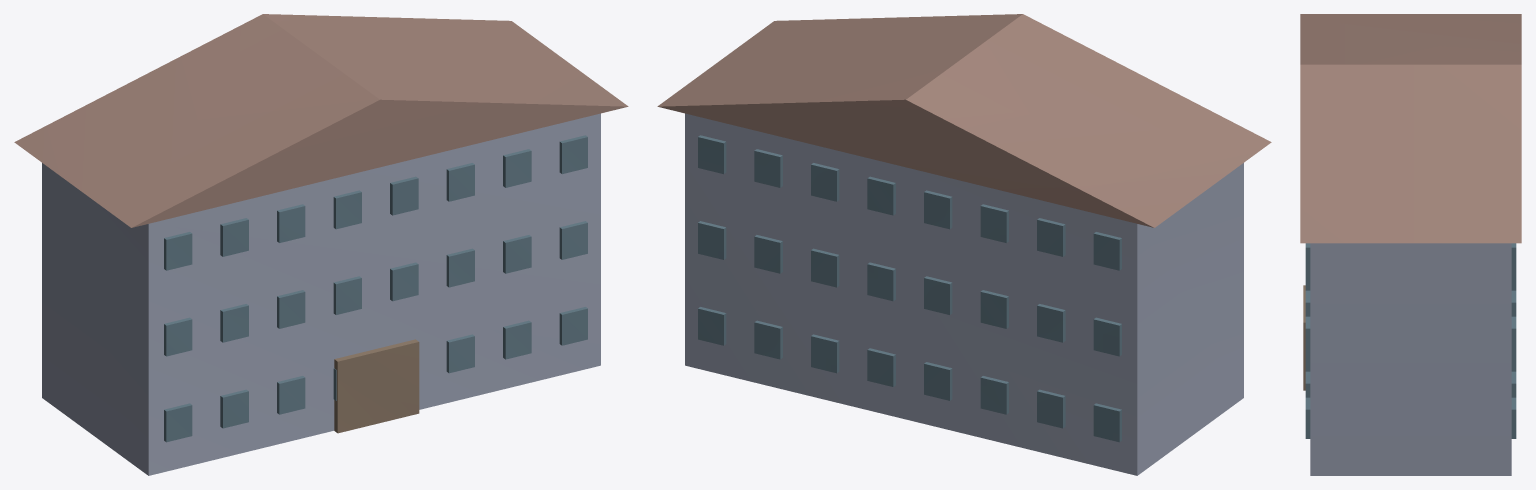
File: station-04.glb
3 views of the same model, side by side, from view 1: azimuth 30°, elevation 25°; view 2: azimuth 150°, elevation 25°; view 3: azimuth 270°, elevation 25° (orthographic). The views are drawn at different scales.
Visible parts, largest first — view 1: world; view 2: world; view 3: world.
Boxes of the visible parts, bbox=[...] form: world: bbox=[14, 14, 628, 475]; world: bbox=[657, 14, 1271, 475]; world: bbox=[1300, 14, 1521, 475].
Size of the model in its own units: 2.9 by 1.81 by 1.18.
